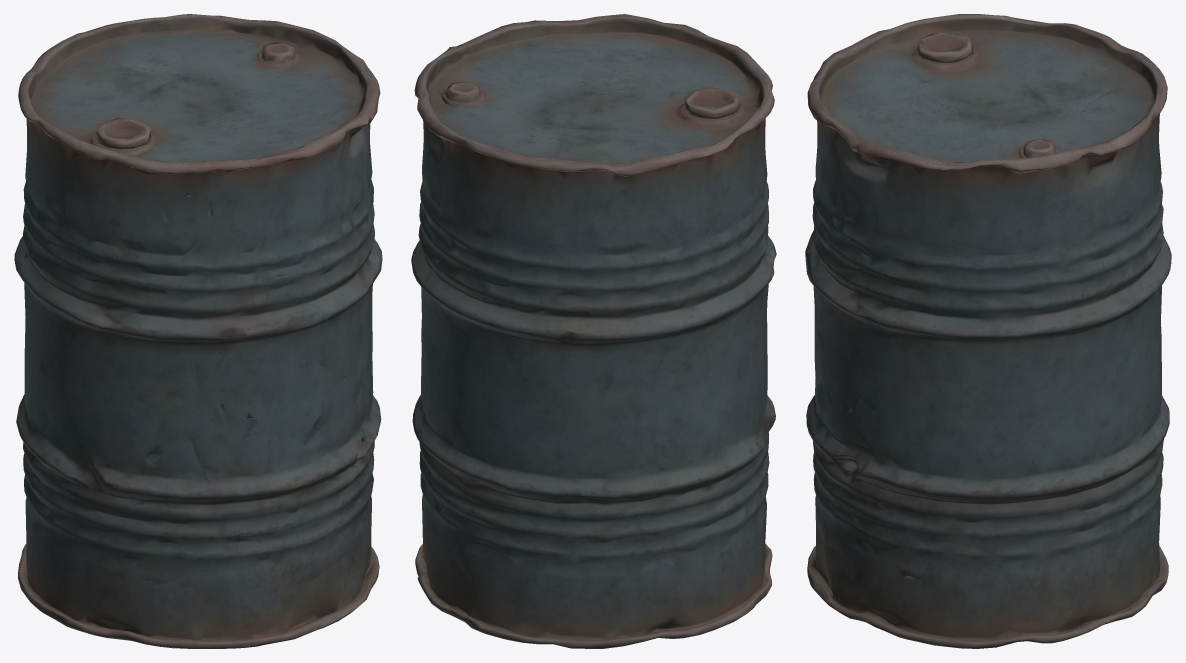
Rendered from drum_oil.glb.
3 views of the same model, side by side, from view 1: azimuth 30°, elevation 25°; view 2: azimuth 150°, elevation 25°; view 3: azimuth 270°, elevation 25° (orthographic).
Visible parts, largest first — view 1: tripo_node_6508857b-8fe5-4229-a27c-f2b7d45d58de; view 2: tripo_node_6508857b-8fe5-4229-a27c-f2b7d45d58de; view 3: tripo_node_6508857b-8fe5-4229-a27c-f2b7d45d58de.
Part boxes in pixels (x1,y1,x2,y2): tripo_node_6508857b-8fe5-4229-a27c-f2b7d45d58de: (14, 14, 382, 648); tripo_node_6508857b-8fe5-4229-a27c-f2b7d45d58de: (411, 14, 776, 648); tripo_node_6508857b-8fe5-4229-a27c-f2b7d45d58de: (805, 14, 1171, 648).
Bounding box in the file's own units: 0.6721 × 1 × 0.6794.
1 material, 1 textured.
